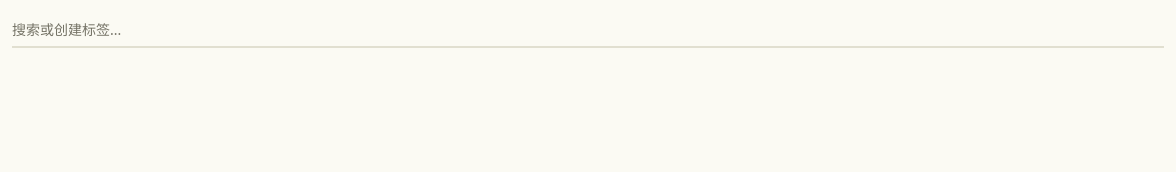
Test case: TagAutocomplete 集成测试 › 键盘导航 › 应该在输入非法字符时提示错误并阻止创建
This screenshot has width=1176, height=172.
Later steps or results of the test are not shown.
Type "#AI" into the field named "标签输入". click: (588, 30)
box: top-left (12, 12), bottom-right (1164, 48)
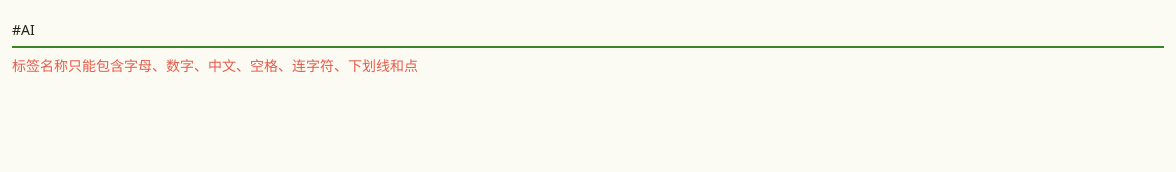
Check: the text "标签名称只能包含字母、数字、中文、空格、连字符、下划线和点" is shown, box top-left (12, 56), bottom-right (418, 75)
